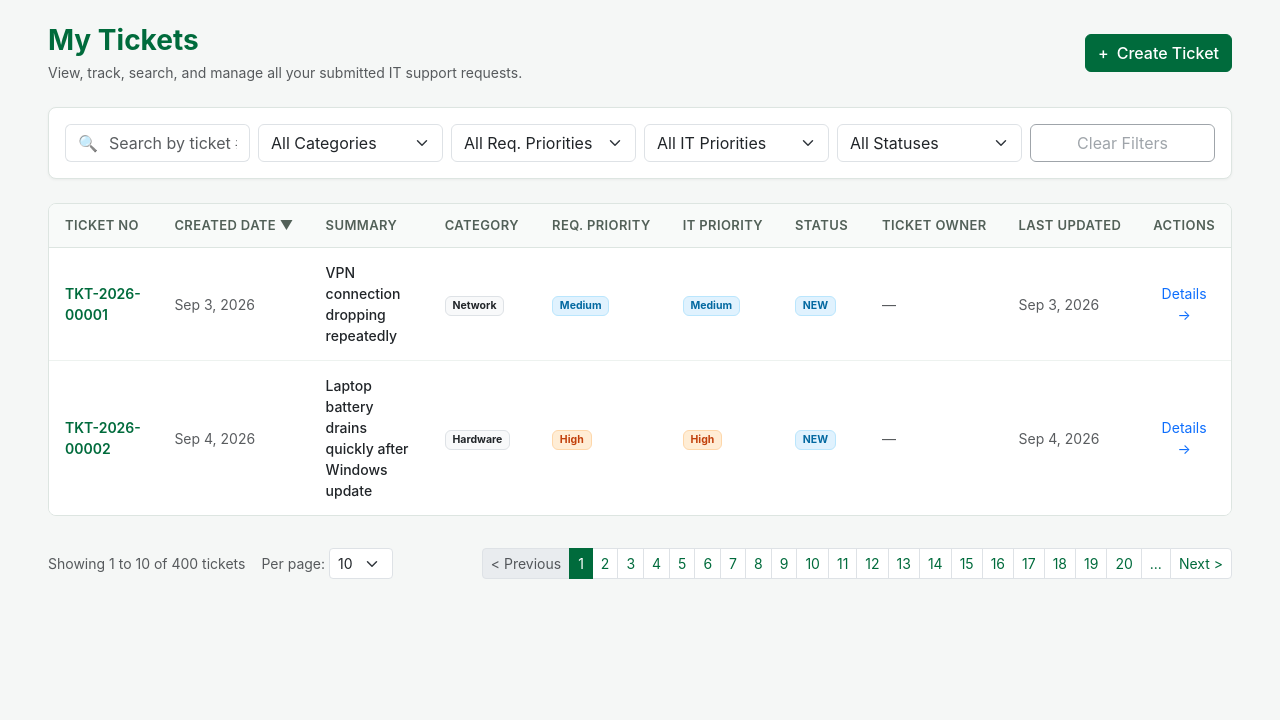
Test case: My Tickets Screen (UI-05, UI-06) › caps pagination bar at 20 pages with ellipsis and dynamic incrementing window when totalPages exceeds 20
Check: the table with test id "tickets-table" is shown, box [49, 204, 1231, 515]
Check: the button named "Page 2" is shown, box [592, 548, 618, 579]
# Clicking trailing ellipsis jumps to page 21 and increments window
Click the button named "Next page range" at (1156, 564), box [1141, 548, 1171, 579]
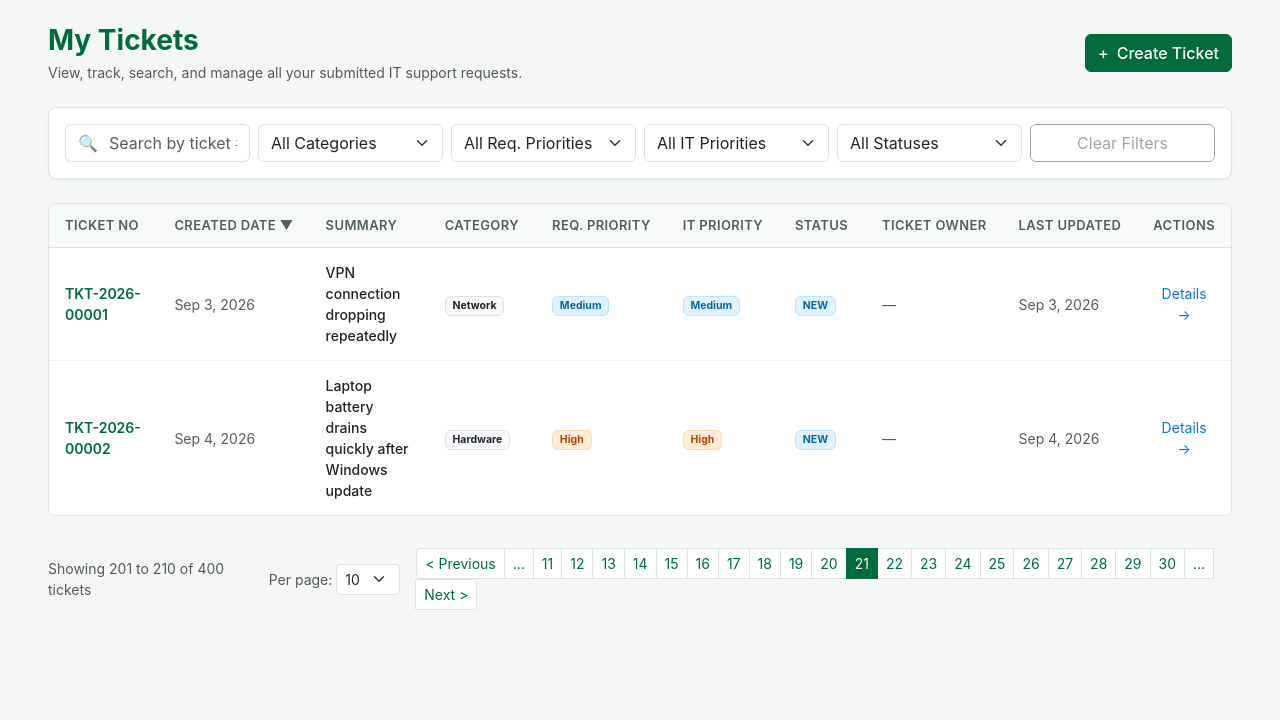
Check: the button named "Page 21" is shown, box [846, 548, 878, 579]
Check: the button named "Previous page range" is shown, box [504, 548, 534, 579]
